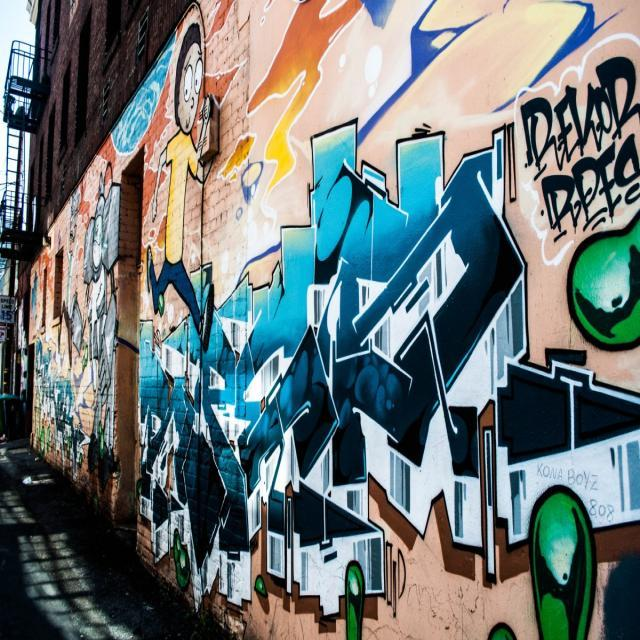-: (139, 115, 640, 618), (144, 23, 218, 340), (521, 54, 640, 242), (82, 174, 120, 452), (108, 28, 172, 156), (31, 341, 88, 468)
